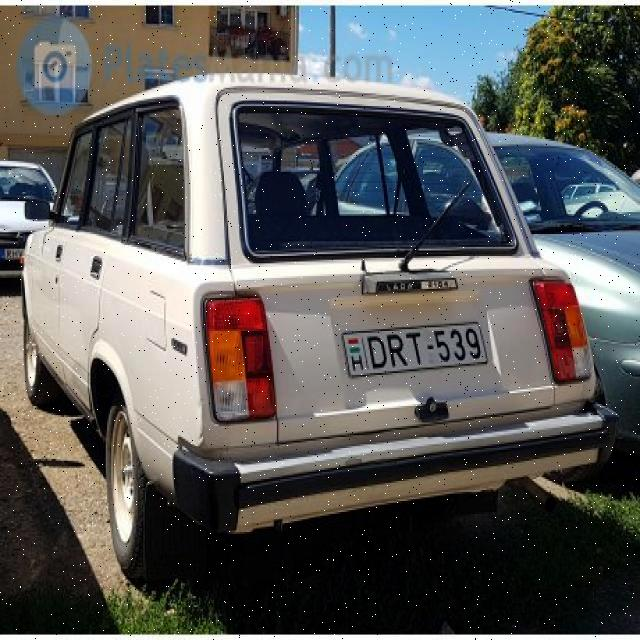licence: (338, 322, 489, 376)
